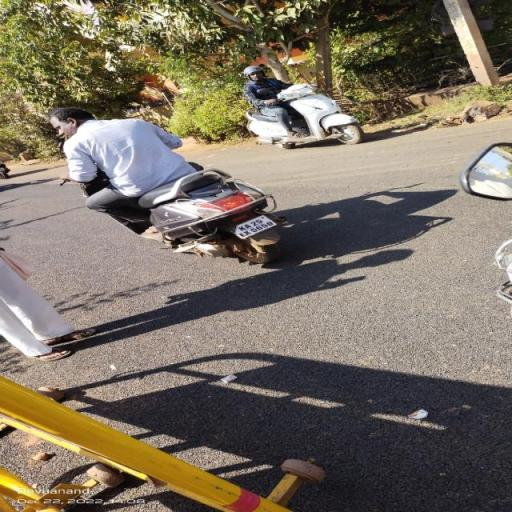bike: (40, 102, 294, 265)
numberplate: (226, 200, 280, 244)
withouthelmet: (42, 96, 85, 138)
